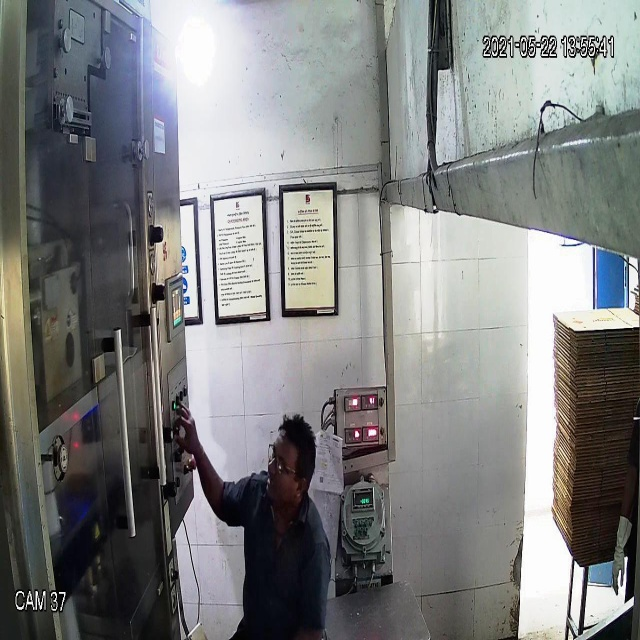Gafas: (264, 440, 311, 492)
